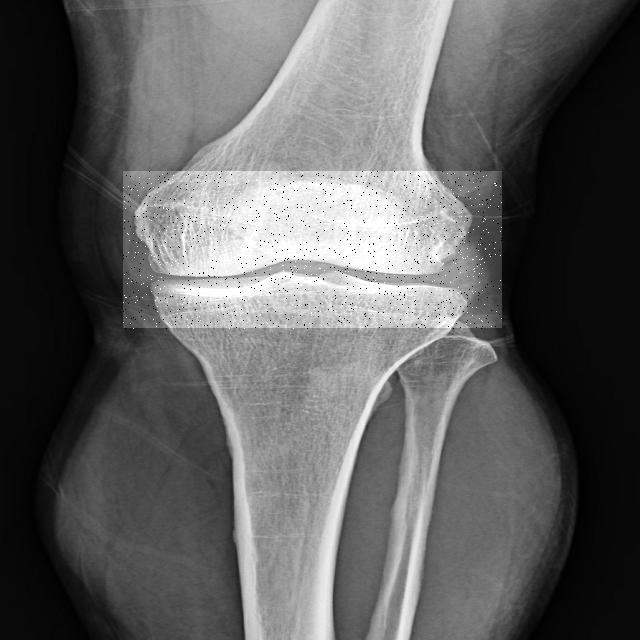osteo: (123, 172, 502, 330)
